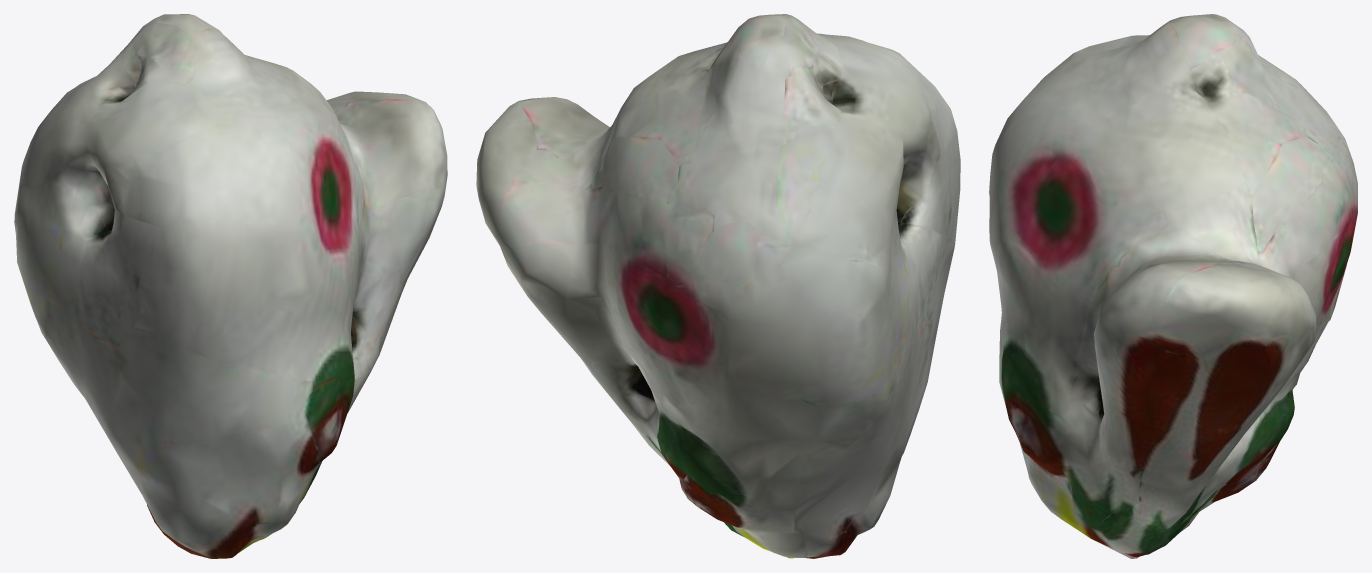
File: hall.glb
3 renders of one model, left to right at view 1: azimuth 30°, elevation 25°; view 2: azimuth 150°, elevation 25°; view 3: azimuth 270°, elevation 25°, orthographic. The views are drawn at different scales.
Size of the model in its own units: 0.1484 by 0.1896 by 0.1202.
1 material, 1 textured.
